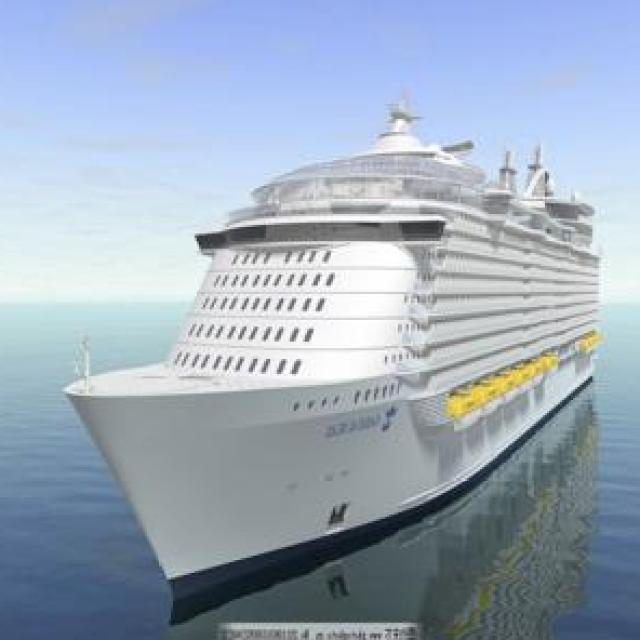passenger ship: (61, 78, 606, 592)
